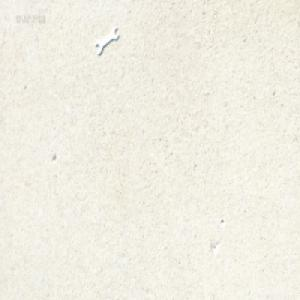Wrench: (94, 30, 118, 58)
